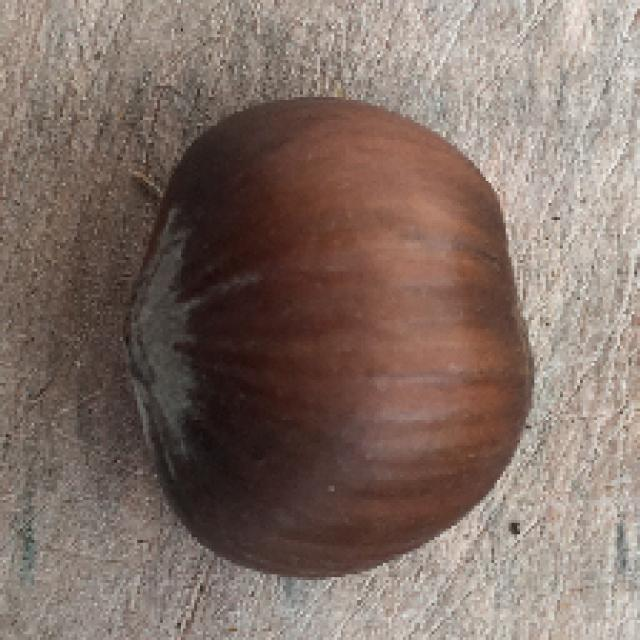damagedHazelnut: (116, 90, 546, 592)
